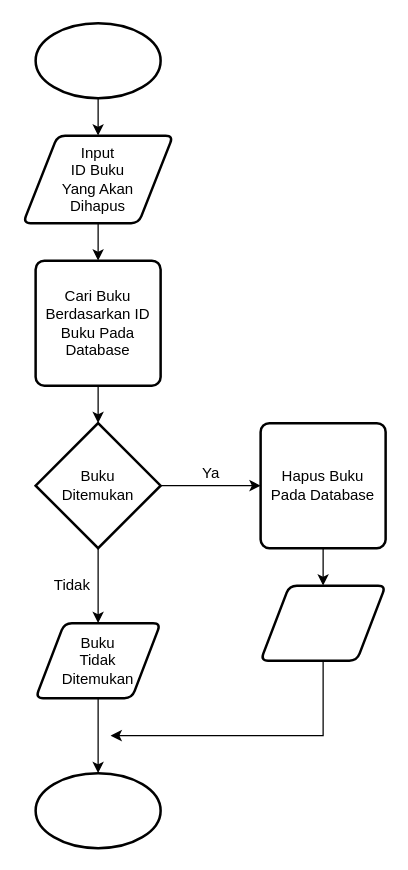
The diagram is 408 pixels wide and 870 high, and some of its shapes have lost their labels. The shapes that lost their labels are listed below. From the top down, each one's centre as x and y in pixels, then its label:
At (97,60): "Mulai".
At (322,622): "Buku Berhasil Dihapus".
At (97,810): "Selesai".
